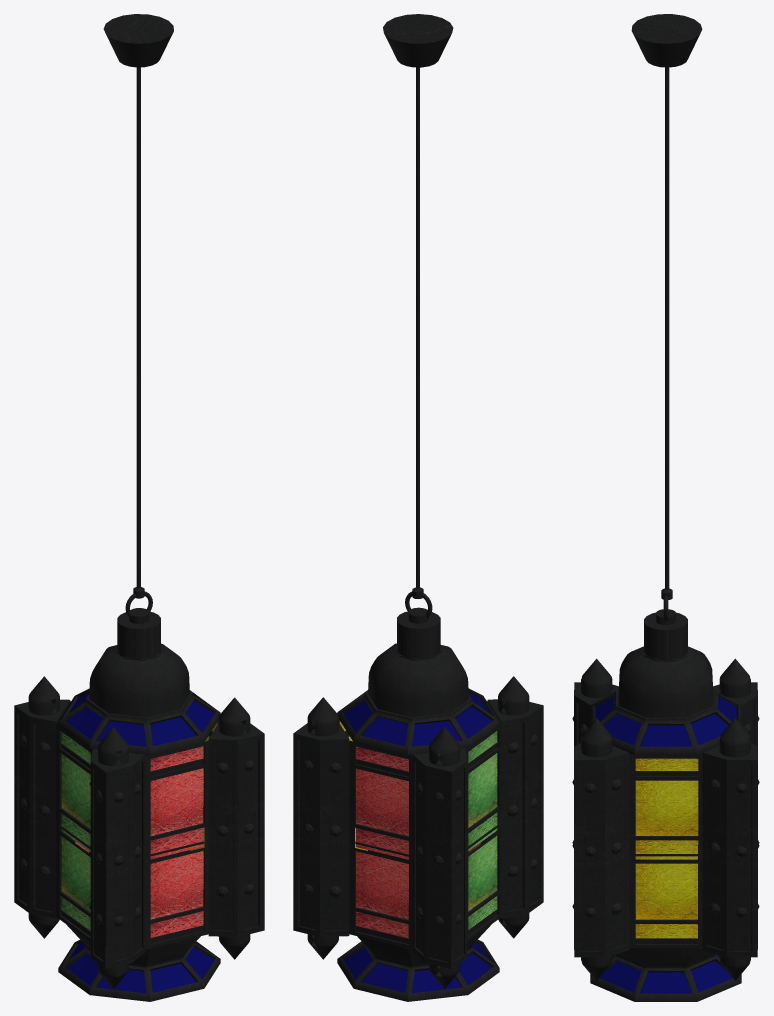
Rendered from Ceiling Lamp.fbx.
The picture shows the model from 3 angles, left to right: view 1: azimuth 30°, elevation 25°; view 2: azimuth 150°, elevation 25°; view 3: azimuth 270°, elevation 25°; orthographic projection.
Parts seen in each view (by area): view 1: Ceiling lamp; view 2: Ceiling lamp; view 3: Ceiling lamp.
Boxes of the visible parts, x1=… form: Ceiling lamp: x1=14, y1=14, x2=264, y2=1001; Ceiling lamp: x1=293, y1=14, x2=543, y2=1001; Ceiling lamp: x1=572, y1=14, x2=759, y2=1001.
Bounding box in the file's own units: 20.88 × 116 × 20.88.
3 materials, 2 textured.
